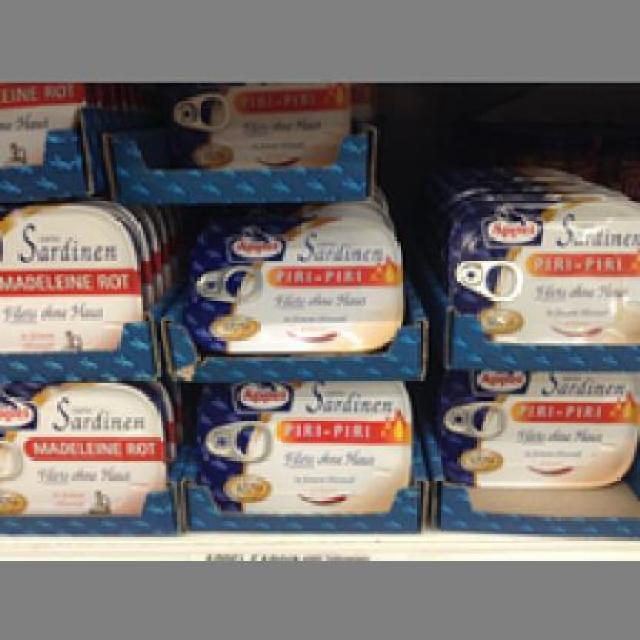Fish: (189, 208, 400, 352), (185, 380, 408, 511), (442, 198, 638, 342), (434, 363, 637, 486), (0, 206, 140, 346), (0, 380, 169, 494)
